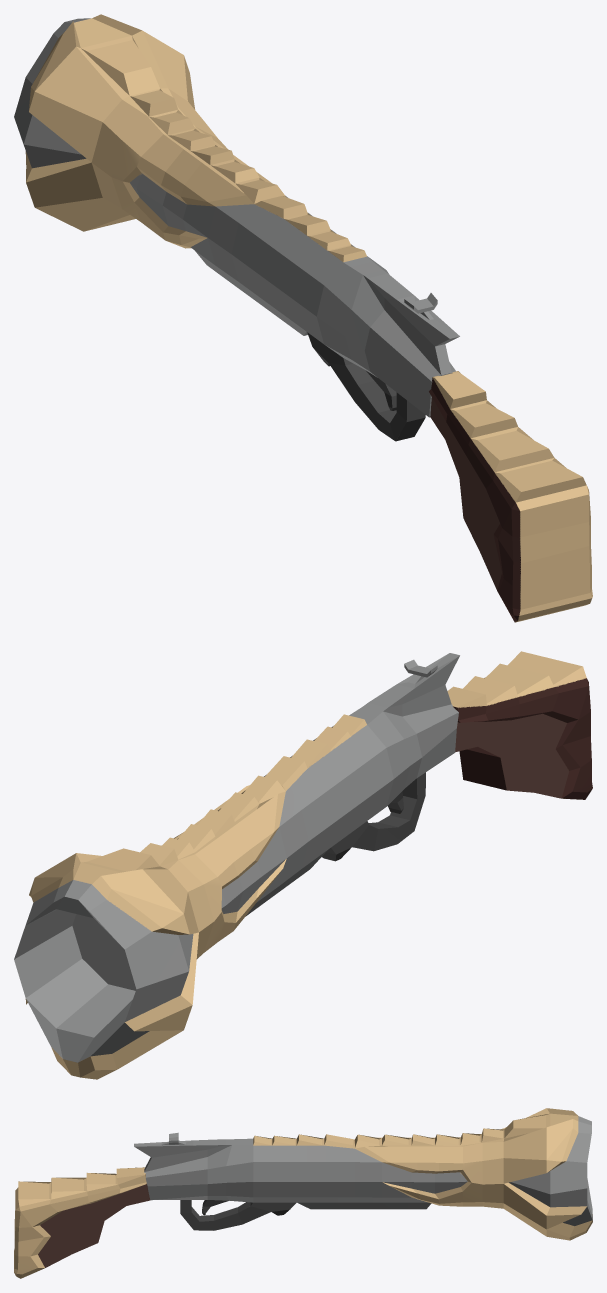
Rendered from blunderbuss.obj.
3 views of the same model, one above another, from view 1: azimuth 30°, elevation 25°; view 2: azimuth 150°, elevation 25°; view 3: azimuth 270°, elevation 25° (orthographic). The views are drawn at different scales.
Visible parts, largest first — view 1: Blunderbuss; view 2: Blunderbuss; view 3: Blunderbuss.
Part boxes in pixels (box(x1,y1,x2,y2)): Blunderbuss: box(14, 14, 592, 622); Blunderbuss: box(14, 651, 592, 1079); Blunderbuss: box(14, 1108, 592, 1278).
Bounding box in the file's own units: 0.206 × 0.3041 × 1.04.
Materials: 1 (1 with a texture image).
